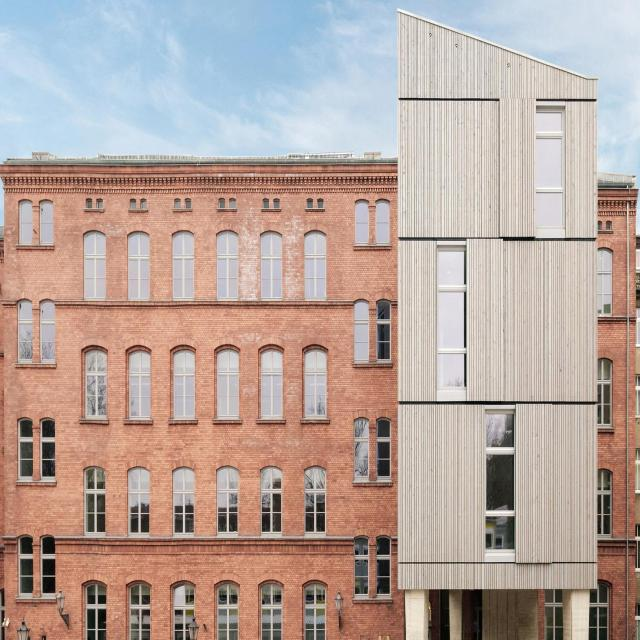wall: (0, 9, 636, 640)
windows: (438, 248, 468, 388), (488, 411, 517, 552), (537, 111, 565, 233), (126, 346, 152, 421), (302, 346, 328, 420), (216, 346, 242, 419), (84, 350, 110, 420), (171, 350, 196, 420), (261, 347, 284, 419), (84, 575, 110, 637), (306, 232, 329, 302), (174, 230, 196, 303), (306, 465, 328, 538), (262, 228, 284, 300), (85, 468, 108, 536), (130, 468, 152, 538), (262, 466, 284, 536), (130, 234, 152, 303), (218, 233, 240, 302), (218, 468, 240, 537), (174, 470, 196, 538), (168, 581, 194, 638), (129, 578, 153, 639), (260, 579, 285, 637), (86, 232, 107, 300), (303, 580, 327, 636), (216, 580, 238, 640), (589, 580, 609, 638), (598, 466, 614, 538), (598, 360, 614, 430), (18, 302, 36, 363), (600, 249, 616, 315), (41, 535, 58, 597), (377, 533, 393, 598), (40, 419, 57, 480), (18, 419, 35, 480), (355, 300, 371, 363), (355, 536, 371, 598), (378, 417, 393, 481), (356, 418, 371, 481), (545, 588, 564, 637), (378, 300, 392, 364), (20, 534, 34, 598), (42, 300, 56, 362), (357, 200, 371, 248), (376, 201, 391, 244), (42, 200, 55, 246), (20, 202, 34, 244)
